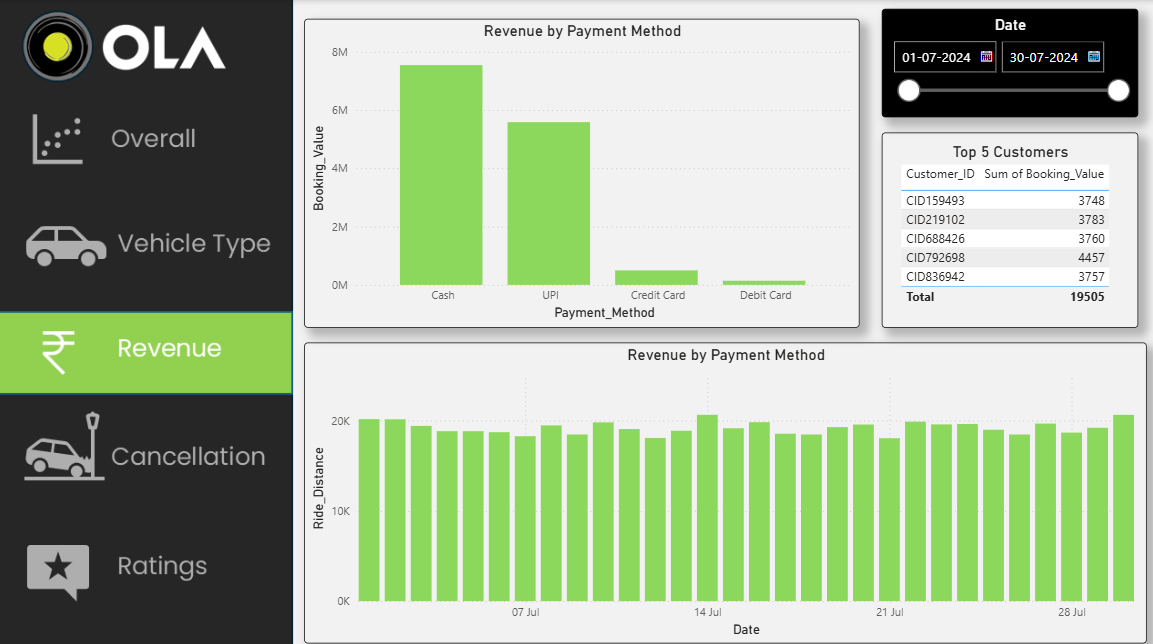

The dashboard page shown, as its layout file describes it:
{"tool":"powerbi","page":{"name":"Revanue","canvas":[1280,720],"ordinal":2},"visuals":[{"type":"actionButton","box":[0,227.6,323.2,88.3],"z":0},{"type":"actionButton","box":[0,449,323.2,88.3],"z":1000},{"type":"actionButton","box":[1,580.9,323.2,88.3],"z":2000},{"type":"actionButton","box":[1,111.2,323.2,88.3],"z":3000},{"type":"columnChart","title":"Revenue by Payment Method","fields":{"Y":["Sum(July.Booking_Value)"],"Category":["July.Payment_Method"]},"box":[336.2,20.6,609.3,338.9],"z":4000},{"type":"columnChart","title":"Revenue by Payment Method","fields":{"Y":["Sum(July.Ride_Distance)"],"Category":["July.Date"]},"box":[336.2,376,924.9,330.7],"z":5000},{"type":"slicer","title":"Date","fields":{"Values":["July.Date"]},"box":[970.2,9.6,281.3,119.4],"z":6000},{"type":"tableEx","title":"Top 5 Customers","fields":{"Values":["July.Customer_ID","Sum(July.Booking_Value)"]},"box":[970.2,145.5,281.3,214.1],"z":7000}]}

Visuals, with their boxes in screenshot pixels (x1, y1, x2, y2), scaled from the page's 1280x720 canvas onto the 1153x644 screenshot:
actionButton: bbox=[0, 204, 291, 283]
actionButton: bbox=[0, 402, 291, 481]
actionButton: bbox=[1, 520, 292, 599]
actionButton: bbox=[1, 99, 292, 178]
"Revenue by Payment Method" columnChart: bbox=[303, 18, 852, 322]
"Revenue by Payment Method" columnChart: bbox=[303, 336, 1136, 632]
"Date" slicer: bbox=[874, 9, 1127, 115]
"Top 5 Customers" tableEx: bbox=[874, 130, 1127, 322]
